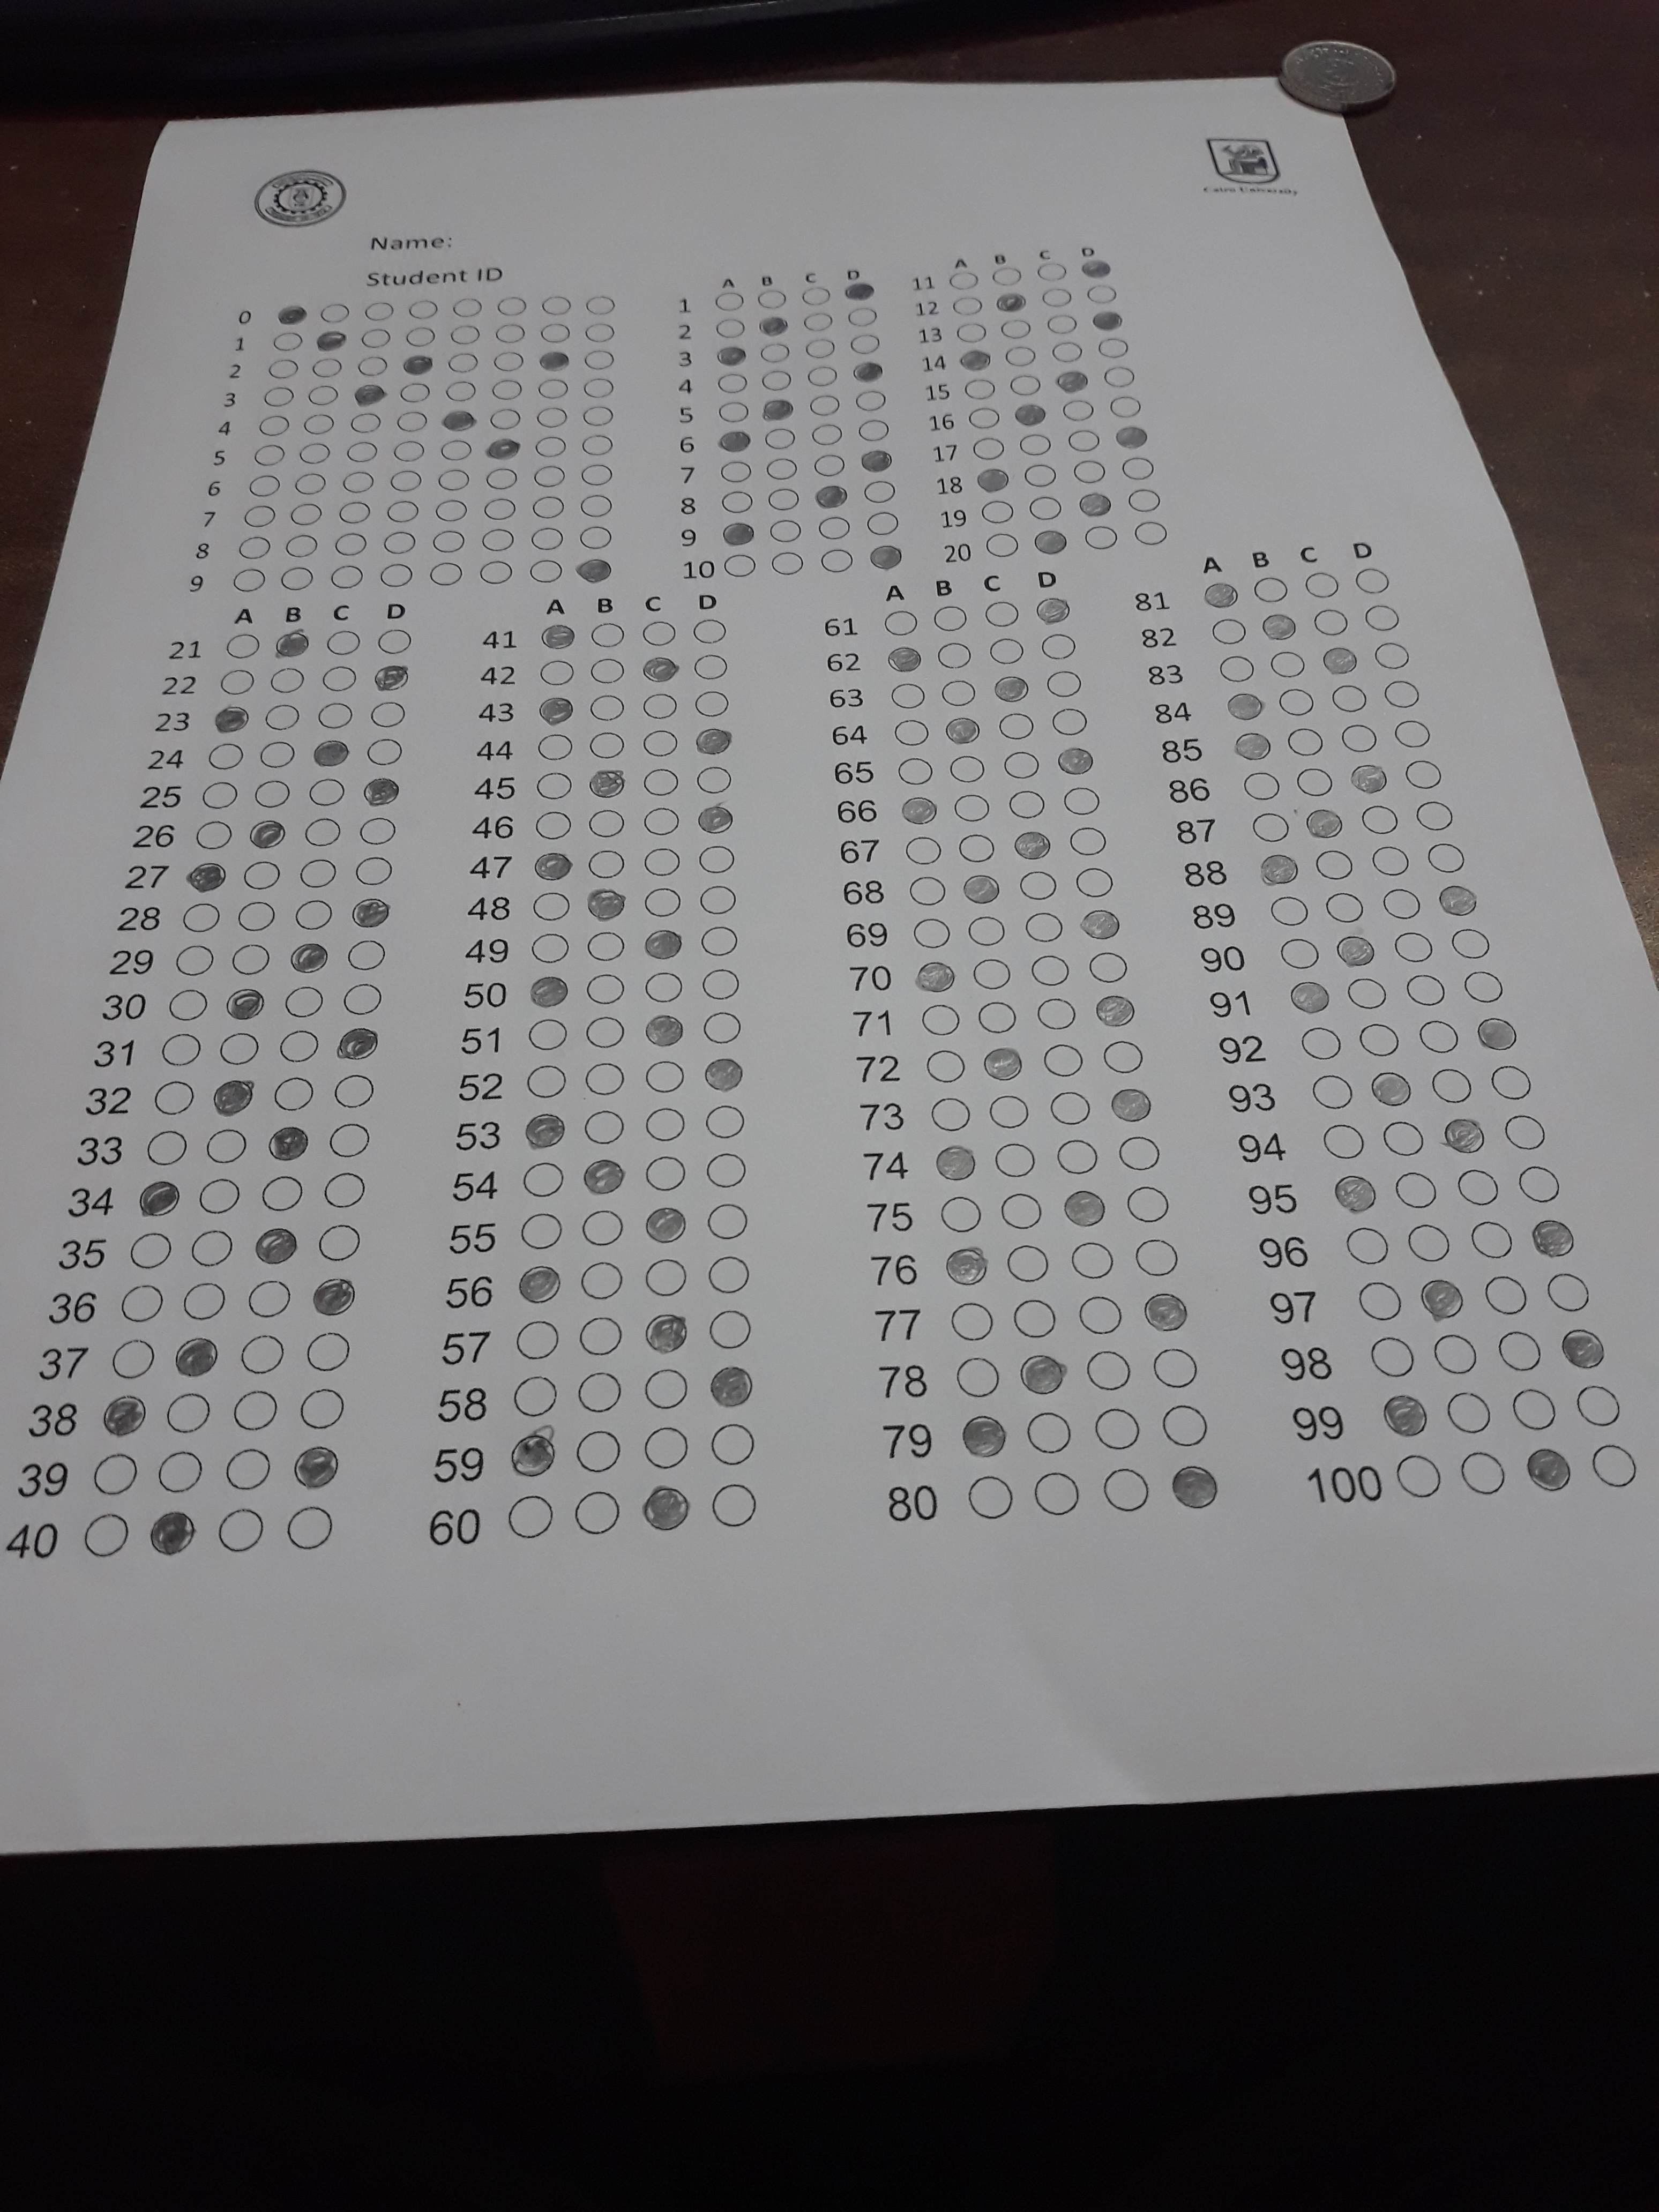not-c: (504, 1491, 556, 1540), (641, 1425, 694, 1474), (228, 1386, 281, 1435), (164, 1390, 216, 1439), (282, 1505, 335, 1554), (221, 1446, 274, 1494), (152, 1447, 204, 1496), (214, 1507, 267, 1555), (641, 1366, 694, 1414), (573, 1486, 624, 1534), (573, 1428, 624, 1477), (709, 1420, 760, 1468), (709, 1480, 760, 1529), (87, 1451, 138, 1500), (82, 1512, 132, 1561), (1574, 1381, 1626, 1428), (1443, 1390, 1495, 1437), (1023, 1409, 1075, 1456), (964, 1474, 1016, 1521), (1542, 1270, 1593, 1317), (1431, 1331, 1483, 1376), (1480, 1273, 1532, 1318), (1493, 1327, 1546, 1372), (1073, 1292, 1126, 1338), (1009, 1298, 1061, 1343), (948, 1298, 1000, 1343), (1150, 1346, 1202, 1392), (1157, 1404, 1209, 1449), (1091, 1407, 1143, 1453), (950, 1355, 1002, 1400), (1032, 1472, 1084, 1517), (1100, 1467, 1152, 1512), (1394, 1453, 1446, 1498), (1455, 1451, 1507, 1496), (1588, 1444, 1640, 1489), (1509, 1386, 1560, 1432), (1082, 1348, 1133, 1393), (575, 1371, 626, 1414), (1370, 1336, 1419, 1379), (1342, 1224, 1391, 1268), (1405, 1221, 1453, 1264), (1467, 1219, 1516, 1263), (1391, 1169, 1439, 1212), (1452, 1165, 1500, 1209), (997, 1190, 1046, 1233), (1002, 1240, 1051, 1284), (1070, 1238, 1119, 1282), (1131, 1237, 1180, 1280), (1122, 1183, 1171, 1226), (1114, 1132, 1162, 1176), (1051, 1136, 1100, 1179), (992, 1137, 1040, 1181), (1380, 1118, 1429, 1162), (1356, 1280, 1405, 1324), (511, 1374, 558, 1418), (936, 1193, 985, 1235), (641, 1103, 688, 1144), (195, 1176, 244, 1216), (188, 1228, 237, 1268), (314, 1223, 362, 1263), (179, 1282, 228, 1322), (117, 1284, 166, 1324), (235, 1334, 284, 1374), (577, 1317, 626, 1357), (702, 1151, 751, 1191), (514, 1318, 559, 1360), (518, 1211, 565, 1251), (704, 1202, 751, 1242), (321, 1170, 368, 1211), (258, 1174, 305, 1214), (127, 1231, 174, 1271), (246, 1278, 293, 1318), (303, 1332, 350, 1372), (110, 1339, 157, 1379), (300, 1388, 347, 1428), (579, 1261, 626, 1301), (641, 1258, 688, 1298), (706, 1254, 753, 1294), (706, 1310, 753, 1350), (519, 1157, 566, 1197), (702, 1101, 749, 1141), (641, 1155, 688, 1195), (580, 1209, 627, 1249), (150, 1078, 197, 1116), (216, 1029, 261, 1068), (202, 1127, 247, 1165), (584, 1061, 629, 1099), (523, 1062, 570, 1099), (582, 1014, 629, 1050), (227, 942, 274, 979), (281, 982, 328, 1019), (275, 1028, 322, 1064), (164, 986, 211, 1022), (640, 968, 687, 1005), (699, 967, 746, 1003), (145, 1130, 192, 1167), (1047, 1089, 1091, 1127), (1028, 953, 1072, 991), (910, 914, 953, 953), (904, 873, 948, 911), (1429, 1066, 1473, 1104), (1378, 885, 1422, 923), (1323, 888, 1366, 927), (1269, 890, 1312, 928), (343, 937, 389, 974), (173, 942, 218, 979), (340, 981, 385, 1017), (272, 1076, 317, 1113), (331, 1073, 376, 1109), (159, 1031, 204, 1068), (328, 1122, 373, 1158), (701, 1010, 746, 1047), (641, 1059, 687, 1096), (584, 1109, 629, 1146), (1358, 1021, 1399, 1059), (929, 1096, 971, 1134), (920, 1001, 962, 1040), (955, 829, 997, 867), (1490, 1062, 1532, 1101), (1279, 935, 1321, 974), (1392, 928, 1434, 967), (1448, 925, 1490, 963), (1321, 1123, 1364, 1160), (1516, 1165, 1560, 1202), (1298, 1026, 1342, 1062), (986, 1094, 1030, 1130), (1040, 1042, 1084, 1078), (924, 1049, 967, 1085), (976, 1000, 1019, 1036), (1033, 996, 1077, 1033), (1101, 1040, 1145, 1076), (1086, 951, 1129, 988), (969, 956, 1012, 993), (964, 913, 1007, 949), (1502, 1115, 1546, 1151), (1417, 1019, 1460, 1055), (1345, 975, 1389, 1012), (1403, 972, 1446, 1008), (1023, 909, 1065, 946), (903, 833, 945, 869), (1462, 968, 1504, 1005), (1314, 846, 1356, 883), (240, 857, 281, 892), (641, 805, 681, 840), (530, 930, 570, 965), (1037, 631, 1079, 664), (533, 808, 572, 843), (298, 857, 336, 892), (237, 899, 275, 934), (200, 777, 239, 812), (193, 819, 232, 853), (181, 900, 220, 935), (587, 846, 626, 881), (645, 885, 683, 920), (532, 890, 570, 925), (587, 928, 626, 963), (699, 883, 737, 918), (699, 925, 737, 960), (586, 970, 624, 1005), (1338, 721, 1378, 754), (1382, 678, 1422, 711), (1049, 705, 1089, 738), (1251, 573, 1291, 606), (1068, 826, 1108, 859), (894, 754, 934, 787), (889, 679, 929, 712), (938, 678, 978, 711), (301, 817, 342, 850), (528, 1019, 568, 1052), (1239, 770, 1281, 801), (1286, 726, 1328, 758), (1328, 685, 1370, 716), (1276, 686, 1317, 718), (1413, 799, 1455, 831), (1391, 718, 1432, 749), (1371, 641, 1413, 672), (1351, 566, 1392, 597), (1073, 866, 1115, 897), (892, 718, 934, 749), (695, 845, 737, 876), (694, 765, 735, 796), (692, 688, 734, 719), (995, 709, 1037, 740), (929, 603, 971, 634), (357, 815, 396, 848), (354, 853, 392, 887), (295, 897, 333, 930), (204, 740, 242, 773), (643, 846, 681, 880), (641, 766, 680, 799), (641, 726, 680, 759), (587, 655, 626, 688), (368, 698, 406, 732), (315, 698, 354, 732), (366, 735, 404, 768), (267, 664, 305, 697), (324, 625, 362, 658), (587, 728, 626, 761), (1295, 766, 1335, 798), (1251, 810, 1291, 841), (981, 601, 1021, 632), (1370, 846, 1410, 878), (1425, 843, 1466, 874), (1359, 805, 1399, 836), (1267, 650, 1307, 681), (1403, 758, 1443, 789), (1363, 603, 1403, 634), (1310, 608, 1351, 639), (1061, 786, 1101, 817), (1044, 669, 1084, 700), (1218, 653, 1258, 685), (1208, 615, 1248, 646), (1302, 570, 1342, 601), (1007, 789, 1047, 820), (1019, 871, 1060, 902), (951, 792, 992, 824), (948, 752, 988, 784), (1002, 751, 1042, 782), (690, 651, 730, 683), (690, 617, 730, 648), (934, 639, 974, 671), (986, 636, 1026, 667), (589, 806, 626, 840), (641, 690, 678, 723), (641, 617, 678, 650), (263, 700, 300, 733), (376, 624, 413, 657), (535, 732, 573, 763), (537, 657, 575, 688), (587, 618, 626, 650), (319, 664, 357, 695), (223, 631, 261, 662), (535, 770, 573, 801), (258, 738, 295, 770), (308, 777, 345, 808), (253, 779, 289, 810), (218, 667, 254, 698), (589, 691, 626, 723), (864, 510, 901, 538), (819, 547, 856, 575), (481, 495, 518, 523), (530, 493, 566, 521), (251, 441, 288, 469), (1021, 462, 1058, 489), (1026, 495, 1063, 523), (983, 531, 1019, 559), (434, 496, 469, 524), (385, 498, 420, 526), (580, 430, 615, 458), (763, 425, 798, 453), (765, 455, 800, 482), (770, 549, 805, 577), (723, 552, 758, 580), (345, 439, 380, 467), (580, 491, 615, 519), (579, 524, 613, 552), (479, 559, 514, 587), (429, 559, 464, 587), (279, 564, 314, 592), (288, 500, 322, 528), (293, 470, 328, 498), (232, 566, 267, 594), (237, 533, 272, 561), (242, 503, 277, 531), (246, 472, 281, 500), (270, 327, 305, 355), (1066, 428, 1101, 456), (979, 498, 1014, 526), (1082, 524, 1117, 552), (1121, 455, 1155, 482), (1108, 394, 1143, 421), (1061, 397, 1096, 425), (1007, 371, 1042, 399), (962, 376, 997, 404), (861, 479, 896, 507), (967, 404, 1002, 432), (387, 467, 423, 493), (390, 437, 427, 463), (809, 421, 845, 448), (718, 458, 755, 484), (720, 489, 756, 516), (769, 517, 805, 543), (336, 500, 373, 526), (579, 462, 615, 488), (296, 441, 333, 467), (331, 529, 368, 556), (528, 526, 565, 552), (1016, 432, 1053, 458), (1072, 460, 1108, 486), (1133, 521, 1169, 547), (437, 467, 472, 493), (532, 432, 566, 458), (856, 416, 890, 442), (812, 453, 847, 479), (765, 486, 800, 512), (817, 514, 852, 540), (342, 469, 376, 495), (532, 463, 566, 489), (528, 557, 563, 583), (378, 563, 413, 589), (329, 564, 364, 590), (284, 533, 319, 559), (383, 528, 418, 554), (430, 528, 465, 554), (481, 528, 516, 554), (362, 300, 397, 326), (319, 300, 354, 326), (971, 437, 1006, 463), (1126, 488, 1161, 514), (884, 610, 918, 636), (406, 296, 439, 322), (582, 374, 615, 401), (484, 465, 518, 491), (361, 326, 392, 352), (399, 380, 430, 406), (357, 352, 389, 378), (847, 305, 878, 331), (760, 368, 791, 394), (955, 319, 986, 345), (446, 352, 479, 376), (488, 408, 521, 432), (584, 293, 617, 317), (582, 347, 615, 371), (301, 413, 335, 437), (261, 385, 295, 409), (495, 294, 528, 319), (450, 296, 483, 320), (802, 310, 835, 334), (758, 341, 791, 366), (803, 338, 836, 362), (849, 333, 882, 357), (805, 364, 838, 388), (716, 401, 749, 425), (854, 388, 887, 413), (1004, 345, 1037, 369), (1096, 336, 1129, 361), (950, 294, 983, 319), (1086, 282, 1119, 307), (990, 265, 1023, 289), (1033, 260, 1066, 284), (948, 266, 981, 291), (800, 286, 833, 310), (495, 320, 526, 345), (404, 326, 436, 350), (493, 348, 525, 373), (446, 380, 477, 404), (397, 411, 429, 435), (490, 378, 521, 402), (537, 376, 568, 401), (540, 320, 572, 345), (542, 293, 573, 317), (584, 320, 615, 345), (537, 406, 568, 430), (582, 404, 613, 428), (439, 437, 471, 462), (349, 411, 380, 435), (310, 355, 342, 380), (307, 383, 338, 408), (258, 413, 289, 437), (267, 357, 298, 381), (450, 324, 481, 348), (714, 289, 746, 314), (714, 315, 746, 340), (716, 373, 748, 397), (809, 394, 840, 418), (1103, 364, 1134, 388), (1051, 340, 1082, 364), (1000, 317, 1032, 341), (1046, 312, 1077, 336), (1040, 286, 1072, 310), (756, 287, 788, 312)
taken-c: (146, 1512, 199, 1559), (509, 1432, 558, 1479), (641, 1486, 690, 1533), (293, 1444, 340, 1491), (1171, 1465, 1220, 1510), (1527, 1447, 1574, 1493), (99, 1395, 150, 1437), (171, 1338, 221, 1379), (960, 1414, 1007, 1458), (1380, 1395, 1427, 1439), (706, 1366, 753, 1407), (1419, 1278, 1464, 1320), (645, 1312, 690, 1353), (701, 1054, 746, 1096), (579, 1158, 626, 1198), (640, 1012, 687, 1052), (308, 1277, 355, 1317), (943, 1247, 988, 1287), (1061, 1188, 1107, 1228), (521, 1111, 566, 1151), (516, 1264, 561, 1305), (643, 1204, 688, 1244), (1019, 1355, 1065, 1395), (1143, 1292, 1188, 1332), (1561, 1329, 1607, 1369), (211, 1076, 256, 1116), (1335, 1174, 1378, 1214), (1532, 1219, 1577, 1258), (333, 1026, 382, 1061), (936, 1144, 978, 1184), (289, 941, 335, 977), (254, 1228, 298, 1264), (138, 1179, 181, 1216), (265, 1125, 308, 1162), (225, 988, 268, 1024), (1476, 1017, 1518, 1054), (983, 1047, 1025, 1082), (1110, 1089, 1152, 1123), (1443, 1118, 1485, 1153), (1371, 1071, 1413, 1106), (1094, 995, 1136, 1029), (1260, 853, 1300, 887), (586, 768, 627, 799), (537, 695, 579, 726), (538, 622, 580, 653), (211, 704, 253, 735), (270, 631, 312, 662), (643, 928, 685, 960), (586, 888, 627, 920), (188, 862, 230, 894), (246, 817, 288, 848), (361, 777, 403, 808), (962, 873, 1000, 906), (1291, 981, 1331, 1012), (1438, 885, 1478, 916), (1080, 909, 1121, 941), (897, 796, 938, 827), (1305, 808, 1345, 840), (695, 805, 735, 836), (308, 738, 350, 768), (371, 664, 413, 693), (350, 899, 392, 928), (533, 852, 575, 881), (1337, 935, 1375, 967), (917, 961, 955, 993), (1012, 831, 1051, 862), (1351, 763, 1389, 792), (992, 674, 1030, 704), (866, 543, 906, 571), (535, 348, 575, 376), (399, 352, 439, 380), (695, 726, 732, 756), (1227, 691, 1263, 721), (1323, 646, 1359, 676), (945, 716, 981, 745), (887, 644, 924, 674), (1035, 596, 1072, 625), (575, 557, 613, 585), (812, 482, 850, 510), (484, 435, 523, 463), (439, 408, 477, 435), (352, 381, 390, 409), (312, 327, 350, 355), (272, 303, 310, 331), (1201, 582, 1239, 610), (641, 657, 678, 685), (1058, 747, 1094, 775), (1234, 733, 1270, 761), (1262, 613, 1298, 641), (718, 521, 756, 547), (857, 449, 894, 475), (1089, 308, 1126, 334), (1079, 256, 1115, 282), (760, 397, 796, 423), (716, 428, 753, 455), (1077, 491, 1114, 517), (1054, 369, 1091, 395), (842, 279, 877, 305), (995, 291, 1030, 317), (850, 361, 885, 387), (756, 314, 791, 340), (714, 343, 749, 369), (1033, 529, 1068, 556), (1012, 402, 1047, 428), (958, 350, 993, 374), (976, 469, 1011, 493), (1114, 425, 1148, 449)
